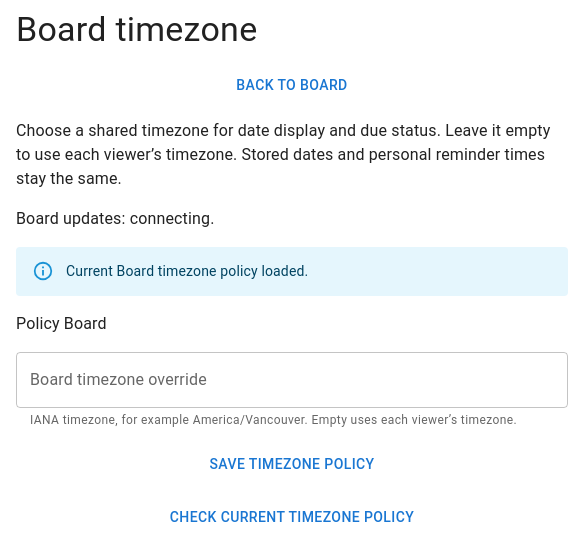
it: rejects invalid timezone input without starting a new admission or command
Type "Unknown/Place" into the field at (292, 380), box [16, 352, 568, 408]
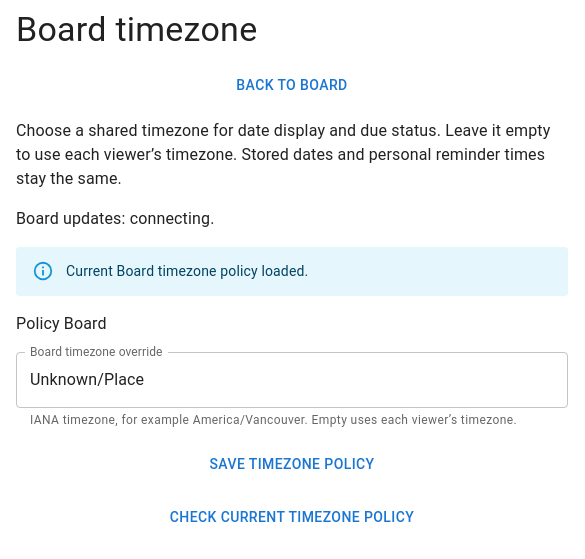
Click the button "Save timezone policy" at (292, 465), box [16, 446, 568, 483]
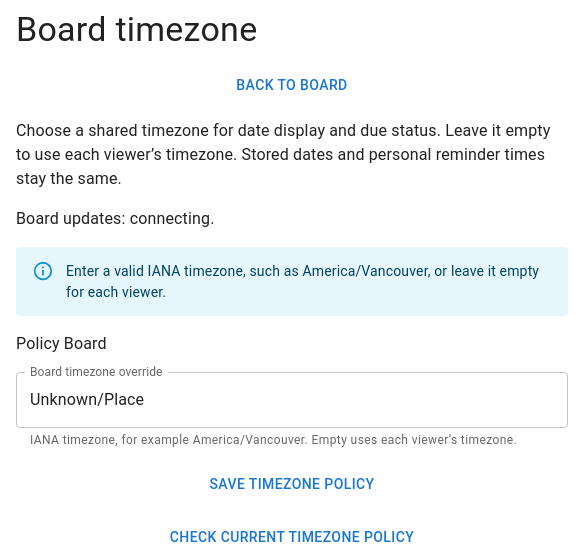
Expected: the text "Enter a valid IANA timezone" is shown, [66, 264, 539, 300]
